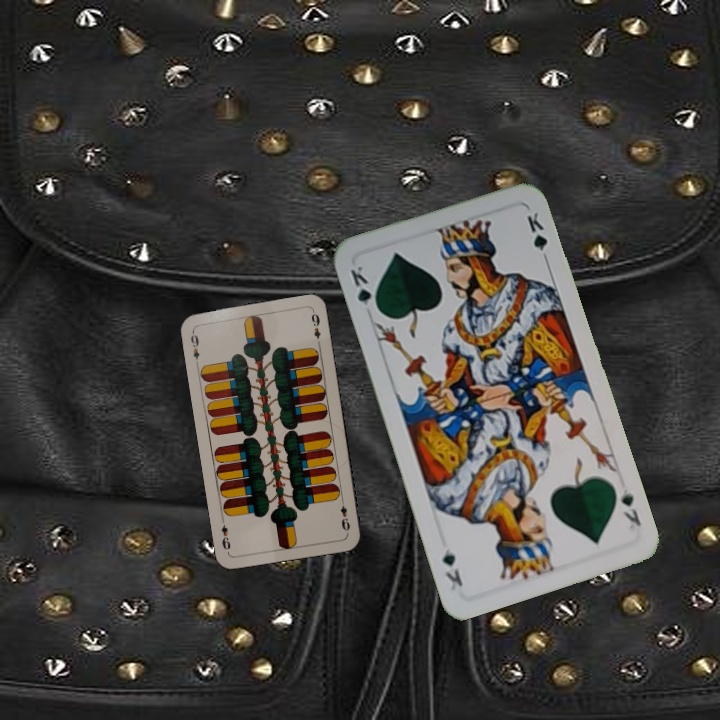E9: (186, 327, 202, 368), (337, 495, 353, 535)
GK: (346, 261, 382, 316), (617, 485, 644, 532)
